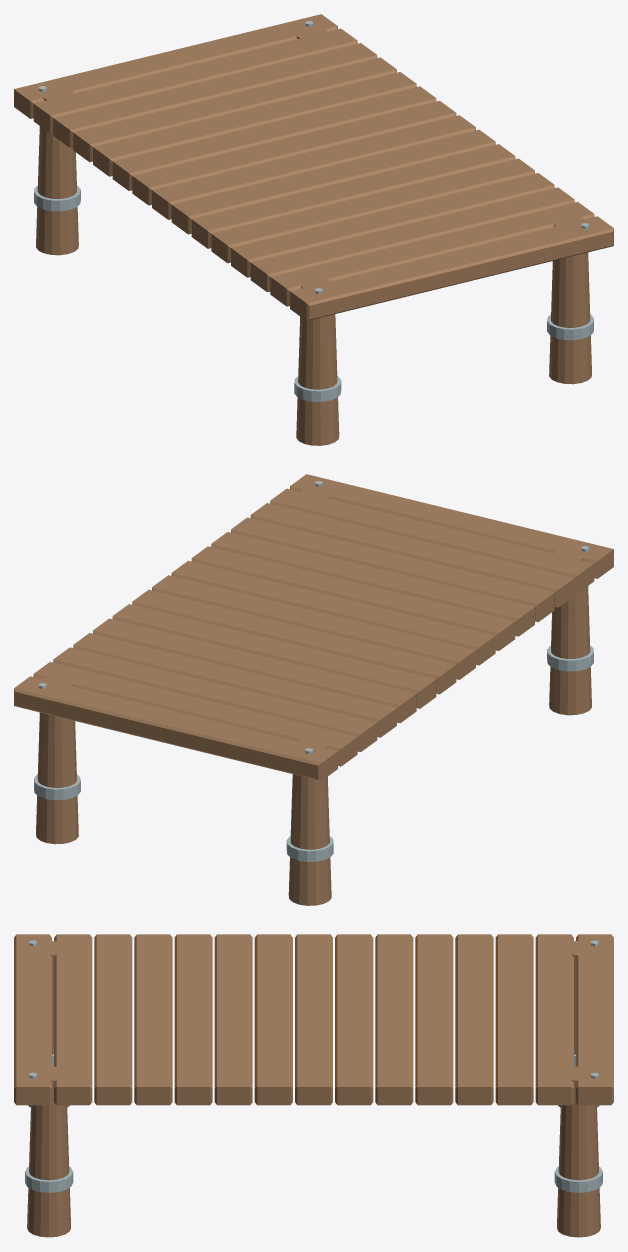
Rendered from harbor-and-tackle-pier-straight-0d4ac776__19555.glb.
3 renders of one model, top to bottom at view 1: azimuth 30°, elevation 25°; view 2: azimuth 150°, elevation 25°; view 3: azimuth 270°, elevation 25°, orthographic.
Visible parts, largest first — view 1: cedar, metal; view 2: cedar, metal; view 3: cedar, metal.
Boxes of the visible parts, x1,y1,x2,y2 form: cedar: (14,14,613,445); metal: (34,21,593,401); cedar: (14,474,613,905); metal: (34,481,593,861); cedar: (14,934,613,1237); metal: (25,940,602,1192).
Size of the model in its own units: 1.8 by 0.864 by 2.99.
